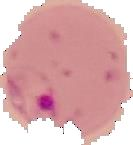parasitized: (5, 48, 108, 111)
